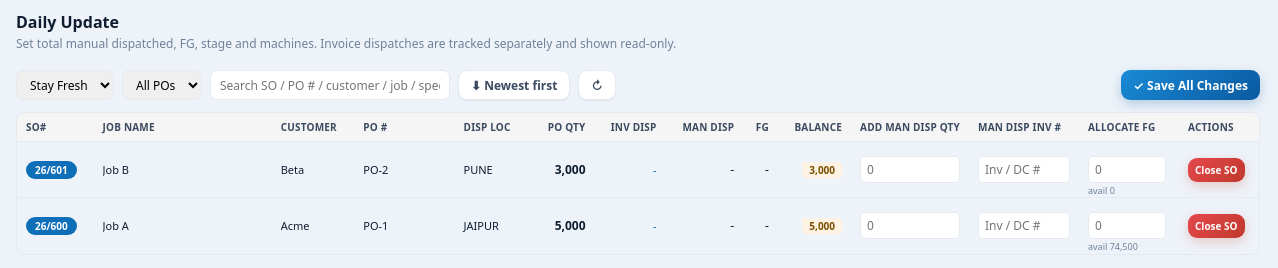
Daily Update — production columns and filters › filters by PO
Check: the text "26/600" is shown, box [26, 217, 77, 235]
Step 1. Select "PO-2" in the dropdown named "Filter by PO" → (162, 85), box [122, 70, 202, 100]
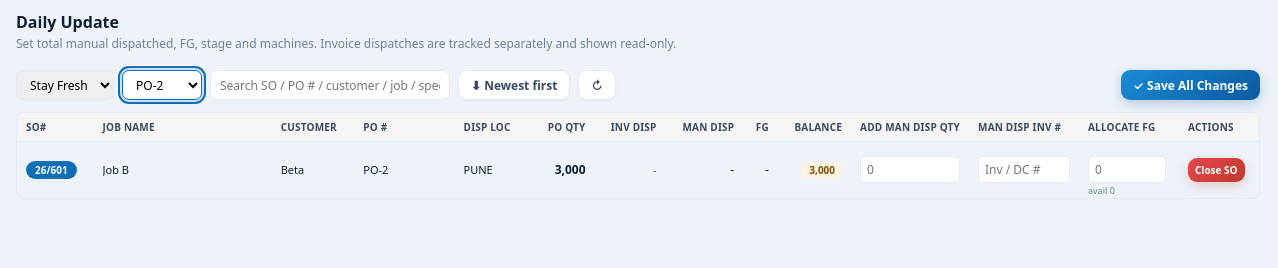
Check: the text "26/601" is shown, box [26, 161, 77, 179]
Check: the text "26/600" is gone
